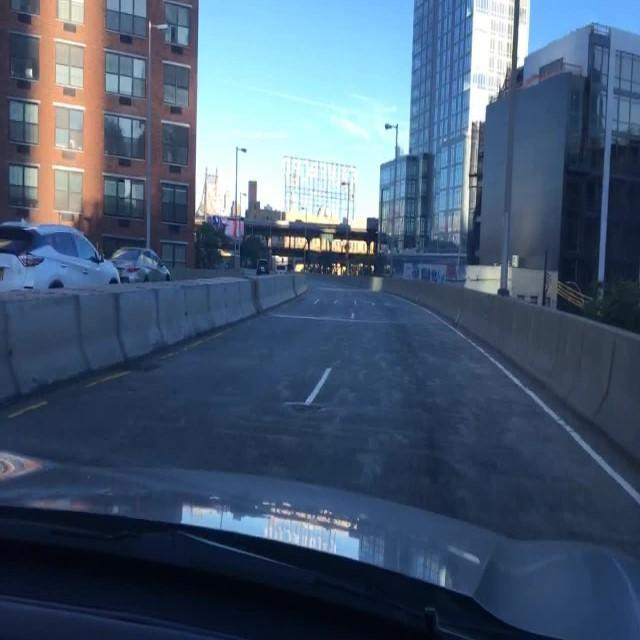normal: (2, 224, 122, 293), (110, 249, 173, 284)
